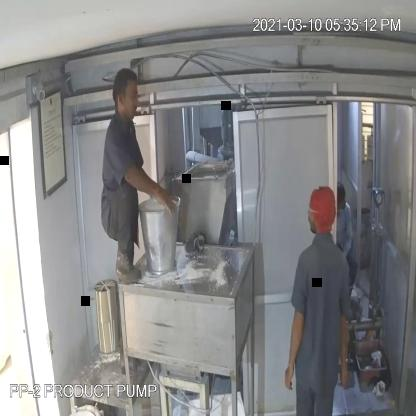no_glove: (116, 152, 178, 220), (273, 290, 307, 398)
